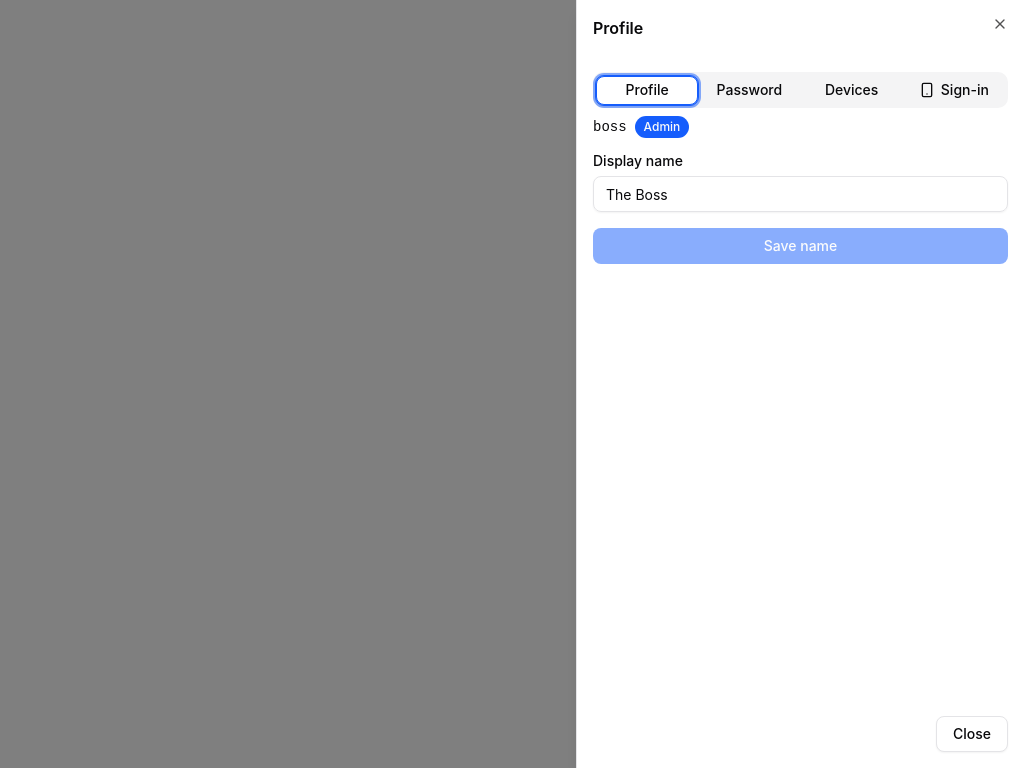
Scenario: ProfileSheet › the password › stays disabled until all three fields agree
Press the mouse on the tab "Password" at (749, 90), box x1=698 y1=76 x2=801 y2=104
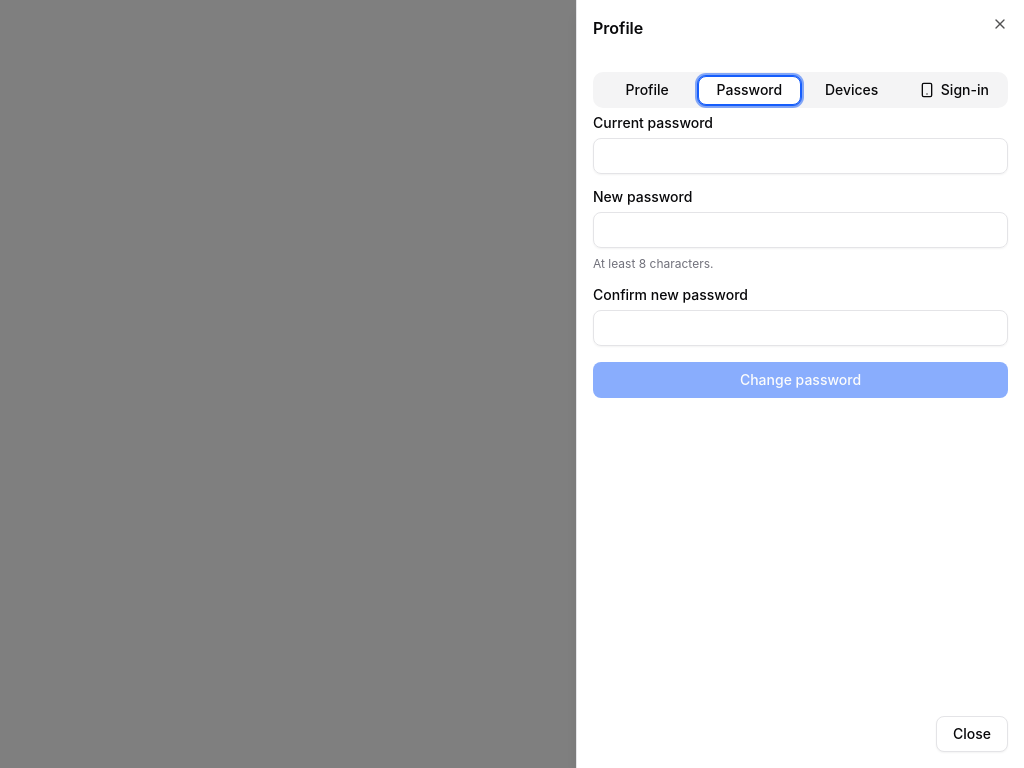
Focus the tab "Password" at (749, 90), box x1=698 y1=76 x2=801 y2=104
Check: the button "Change password" is disabled, box x1=593 y1=362 x2=1008 y2=398
Type "old-one" into the password field labelled "Current password".
click(800, 156); type("old-one")  # box x1=593 y1=138 x2=1008 y2=174
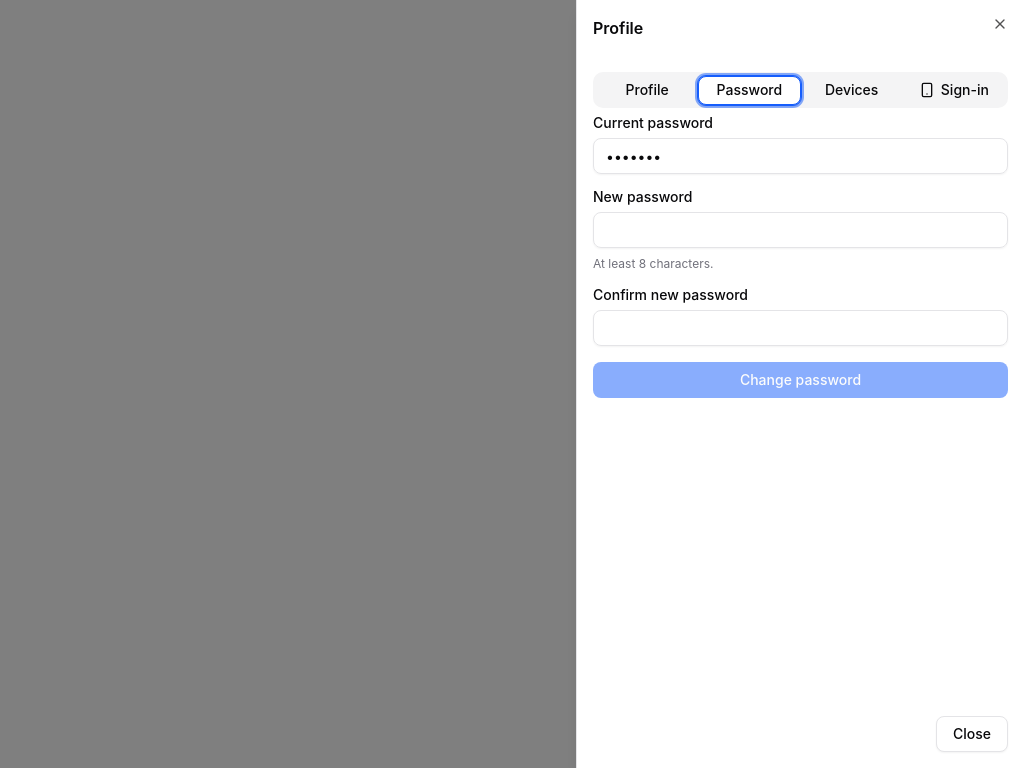
Type "a-new-password" into the password field labelled "New password".
click(800, 230); type("a-new-password")  # box x1=593 y1=212 x2=1008 y2=248
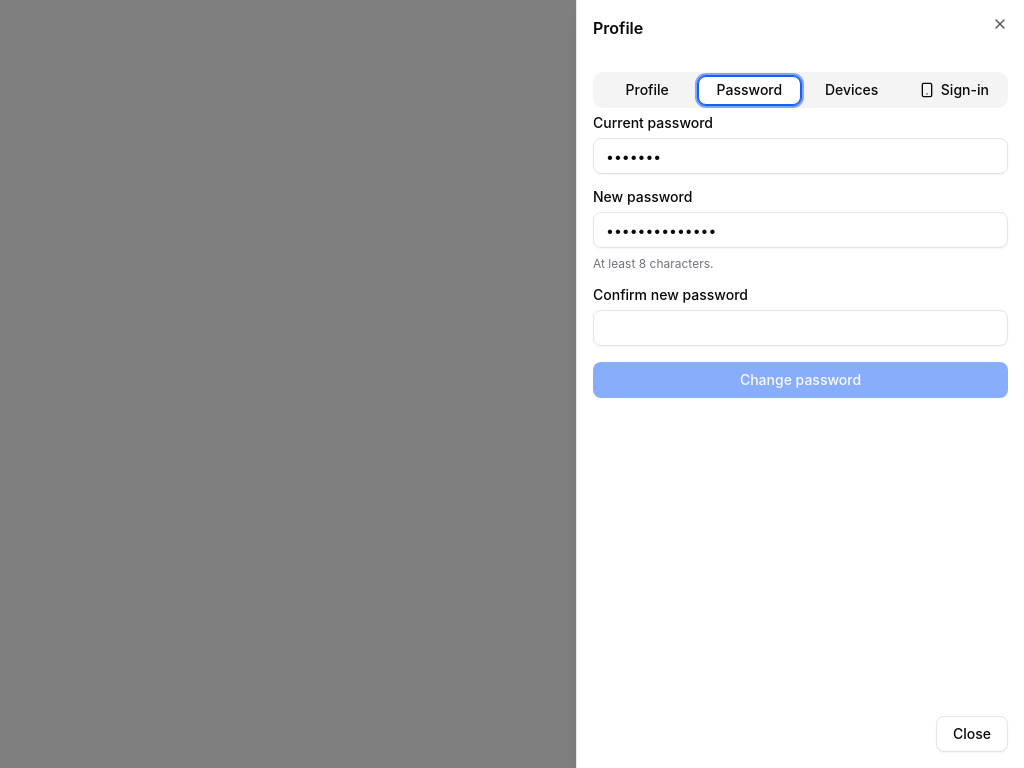
Check: the button "Change password" is disabled, box x1=593 y1=362 x2=1008 y2=398
Type "mismatch" into the password field labelled "Confirm new password".
click(800, 328); type("mismatch")  # box x1=593 y1=310 x2=1008 y2=346
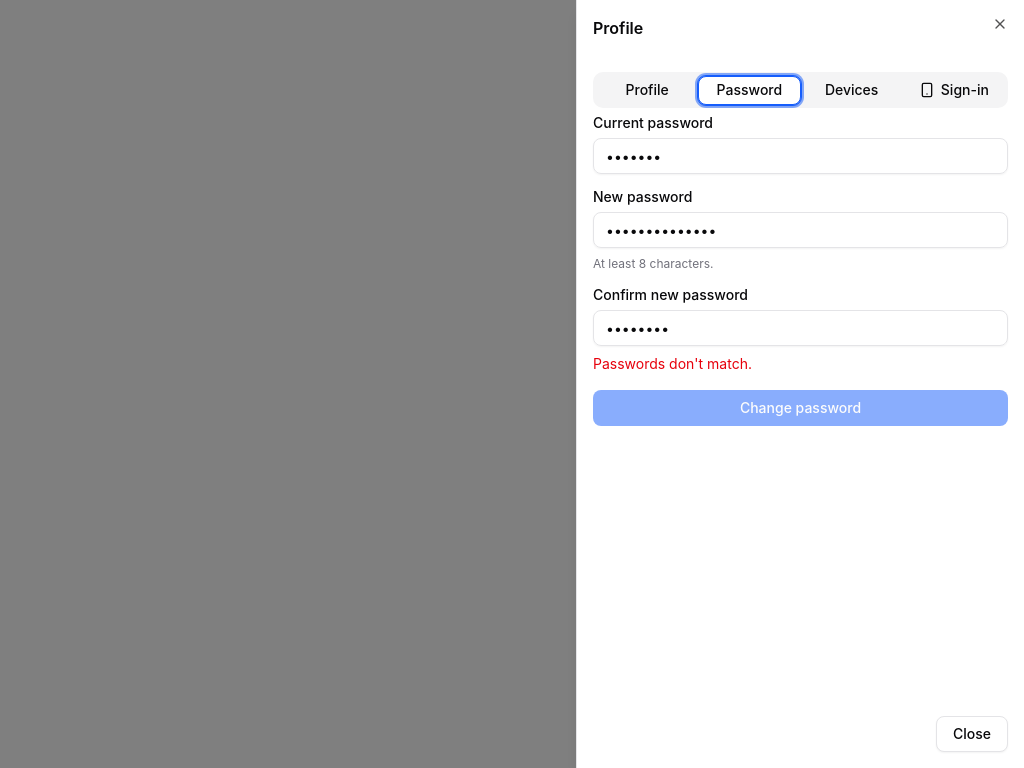
Check: the button "Change password" is disabled, box x1=593 y1=390 x2=1008 y2=426
Check: the text "Passwords don't match." is shown, box x1=593 y1=355 x2=752 y2=372
Type "a-new-password" into the password field labelled "Confirm new password".
click(800, 328); type("a-new-password")  # box x1=593 y1=310 x2=1008 y2=346
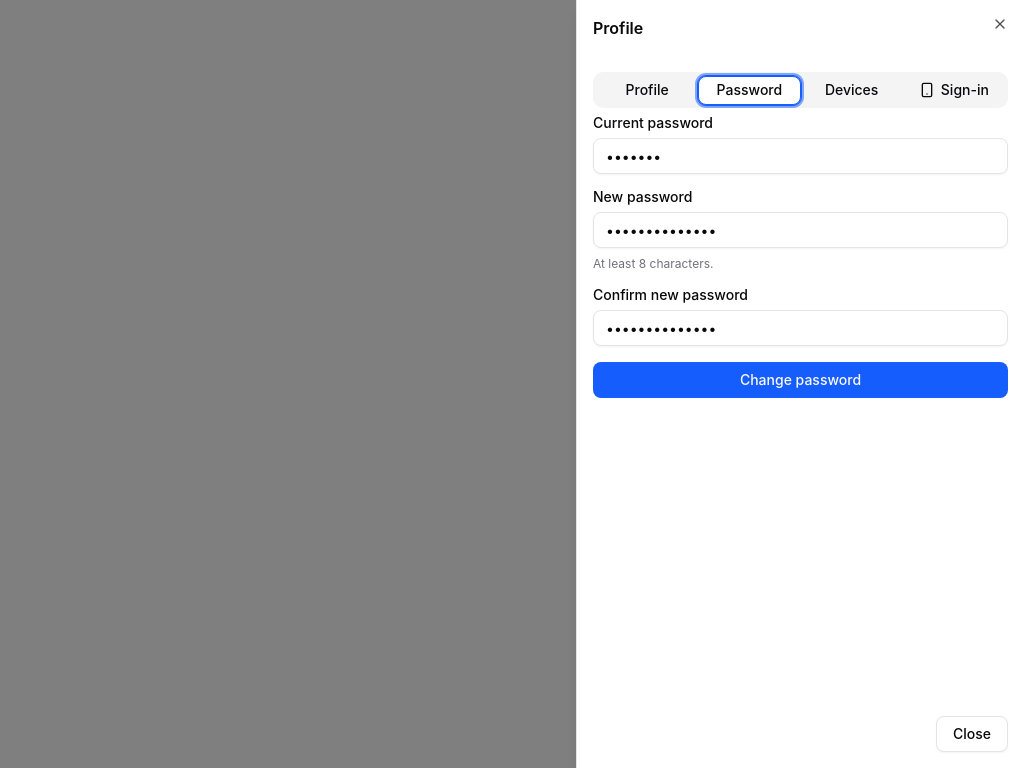
Check: the button "Change password" is enabled, box x1=593 y1=362 x2=1008 y2=398
